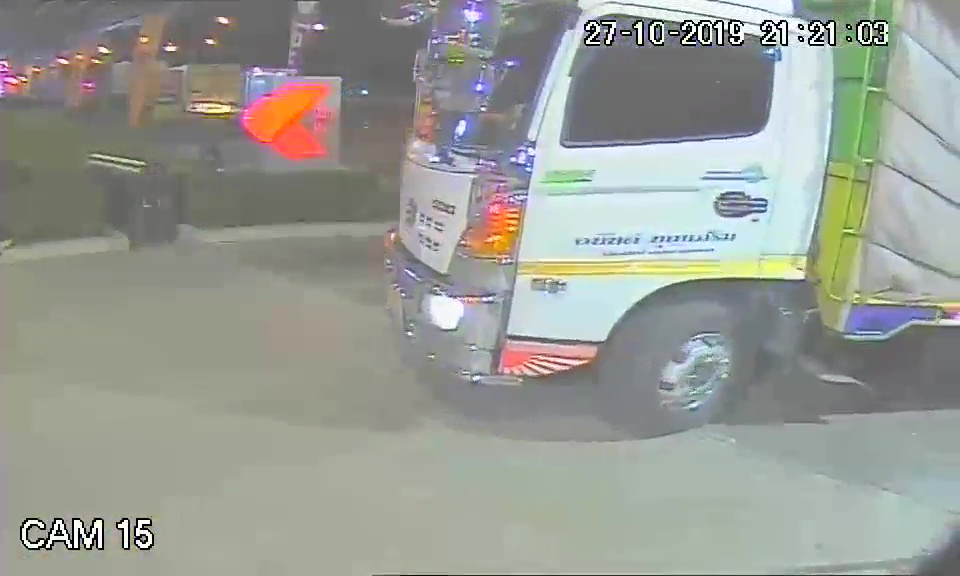truck: (388, 6, 816, 432)
